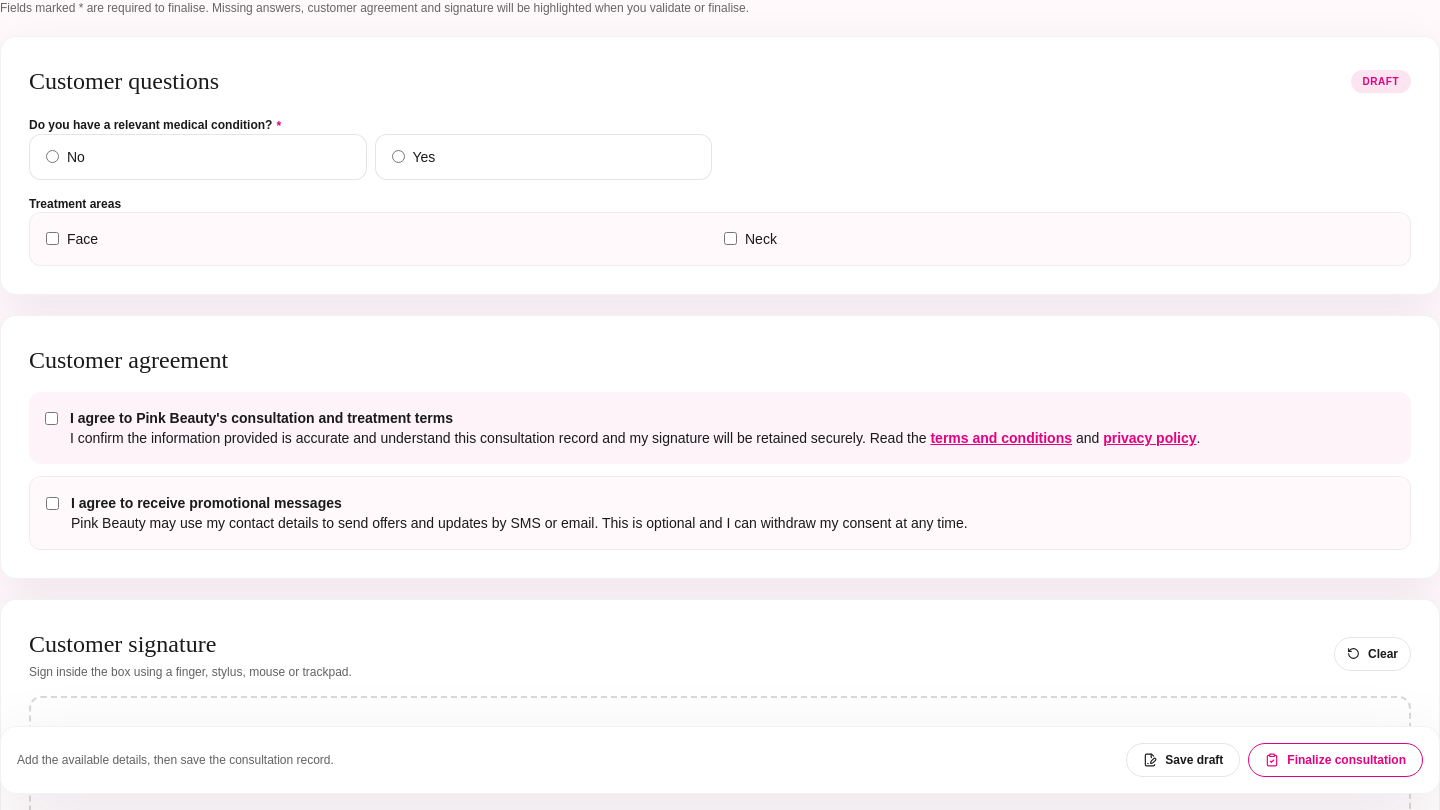
Test case: consultation validation guidance › lets staff save an incomplete draft after seeing finalisation errors
The width and height of the screenshot is (1440, 810).
Click the button "Finalize consultation" at (1336, 760), box [1248,743,1423,777]
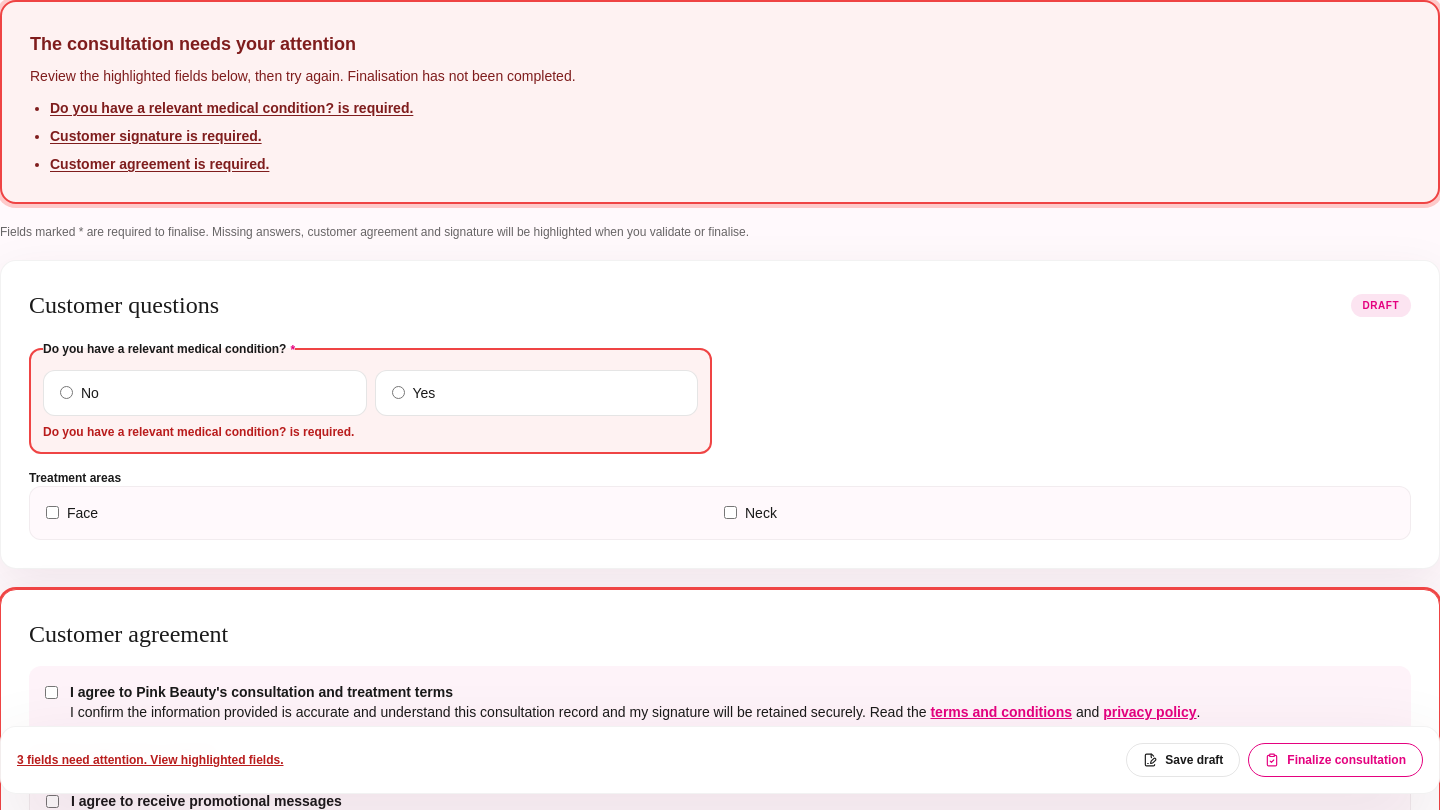
Click the button "Save draft" at (1183, 760), box [1126,743,1240,777]
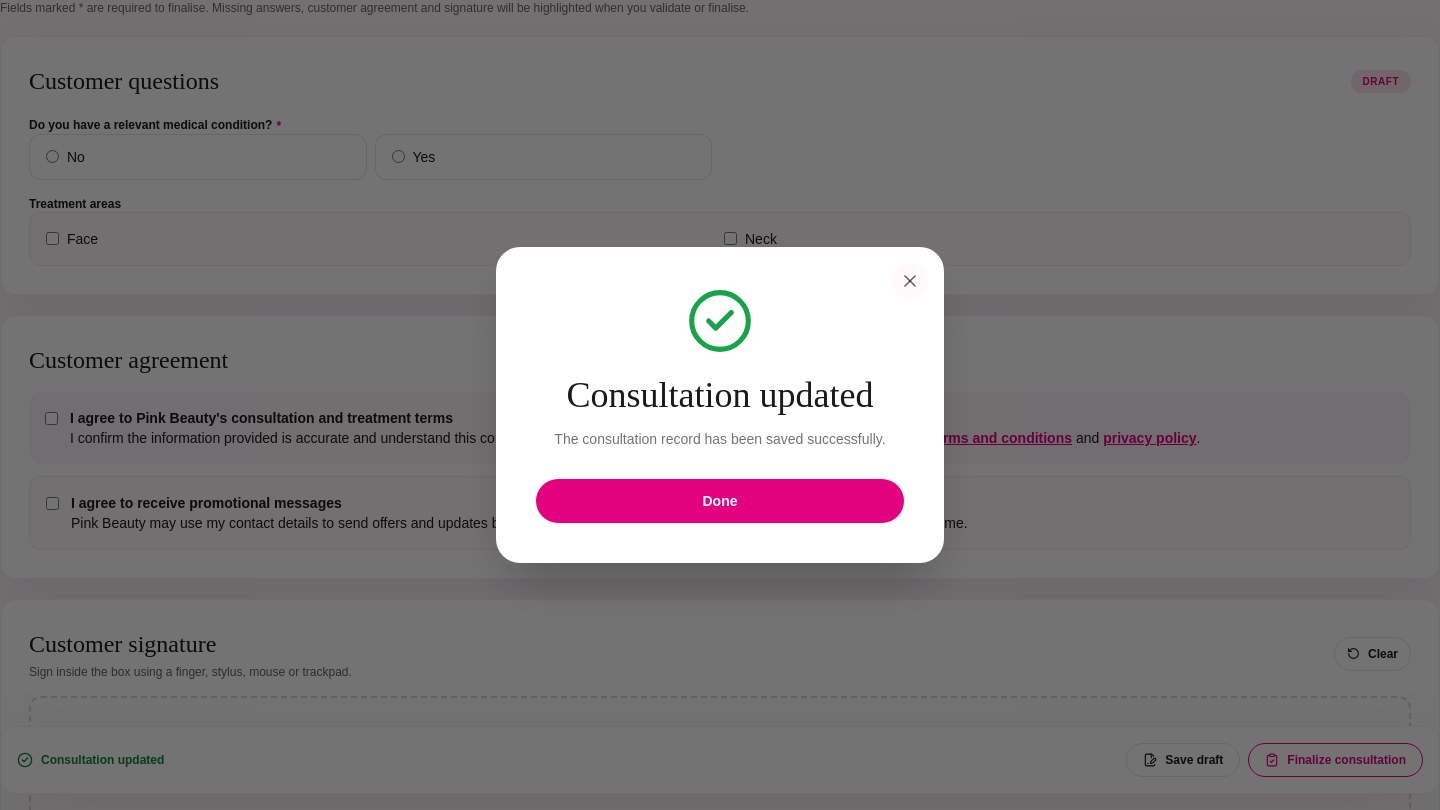
Check: the dialog is shown
Check: the message "The consultation needs your attention Review the highlighted fields below, then" is gone
